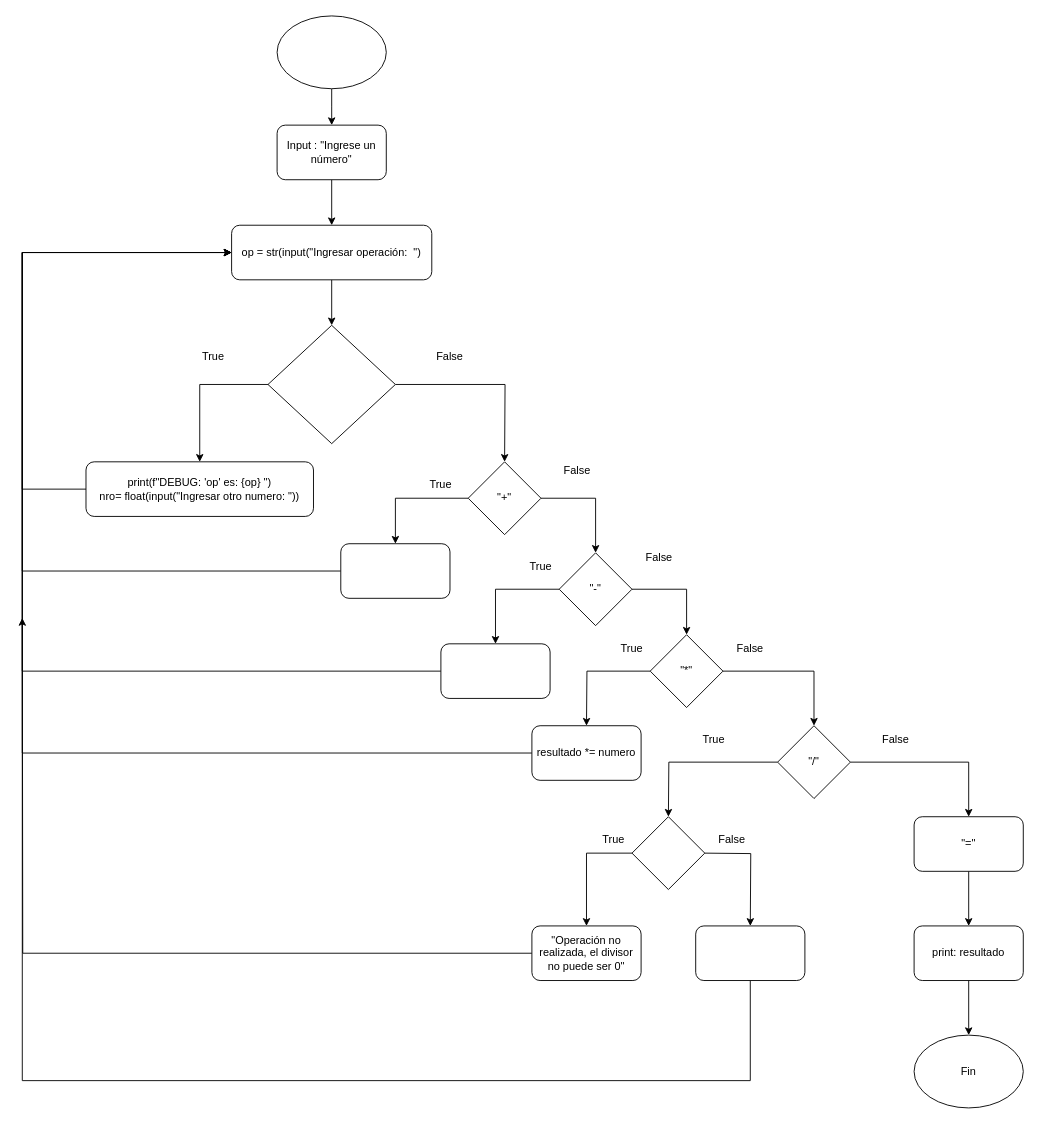
Some shapes in this 1039 by 1124 pixel diagram are drawn without their labels. Each missing label, with the centre of its shape:
Calculadora clásica: point 331,52
if== 0: point 668,853
resultado += numero: point 395,570
resultado -= numero: point 495,670
resultado /= numero: point 750,953
While op != "=": point 331,384
